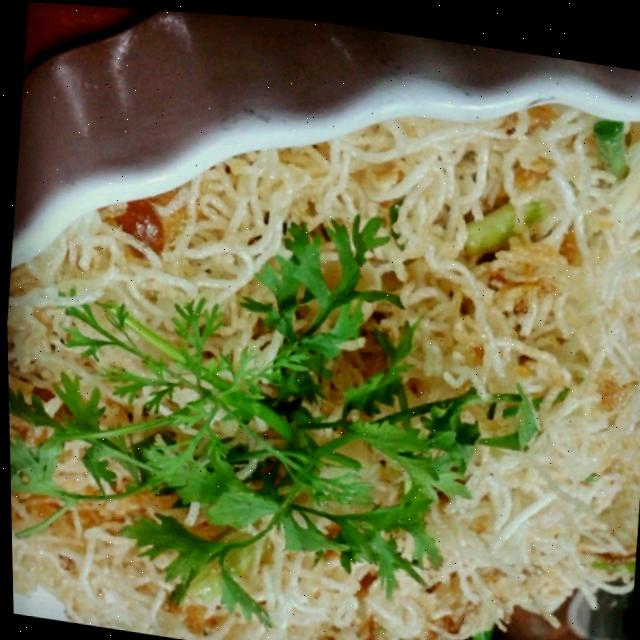面条主食: (0, 11, 640, 640)
